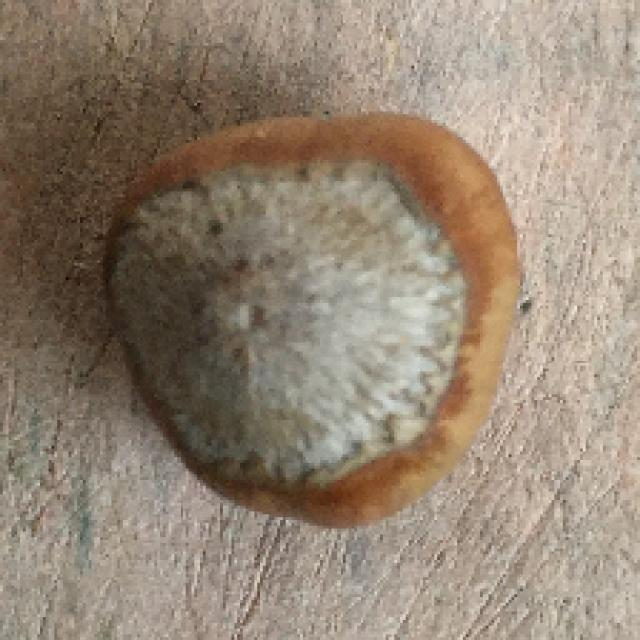qualityHazelnut: (101, 110, 528, 533)
